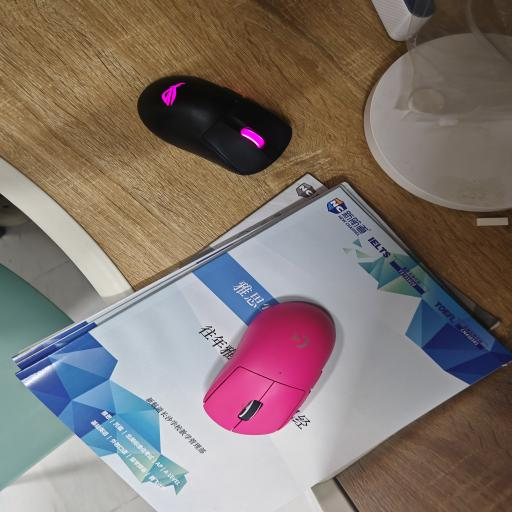mouse: (204, 302, 336, 434), (137, 75, 292, 175)
